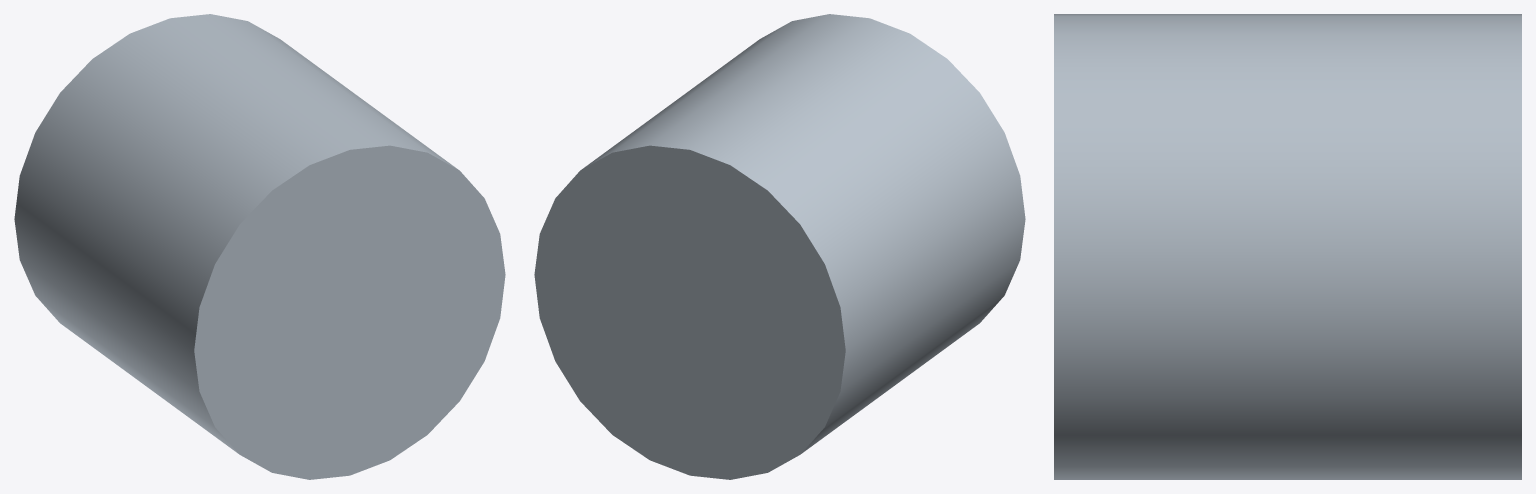
The model's file is DemoPress.obj.
The picture shows the model from 3 angles, left to right: view 1: azimuth 30°, elevation 25°; view 2: azimuth 150°, elevation 25°; view 3: azimuth 270°, elevation 25°; orthographic projection. The views are drawn at different scales.
Visible parts, largest first — view 1: DemoPress; view 2: DemoPress; view 3: DemoPress.
Part boxes in pixels (x1,y1,x2,y2): DemoPress: (14, 14, 505, 479); DemoPress: (534, 14, 1025, 479); DemoPress: (1054, 14, 1521, 479).
Bounding box in the file's own units: 1 × 1 × 1.
